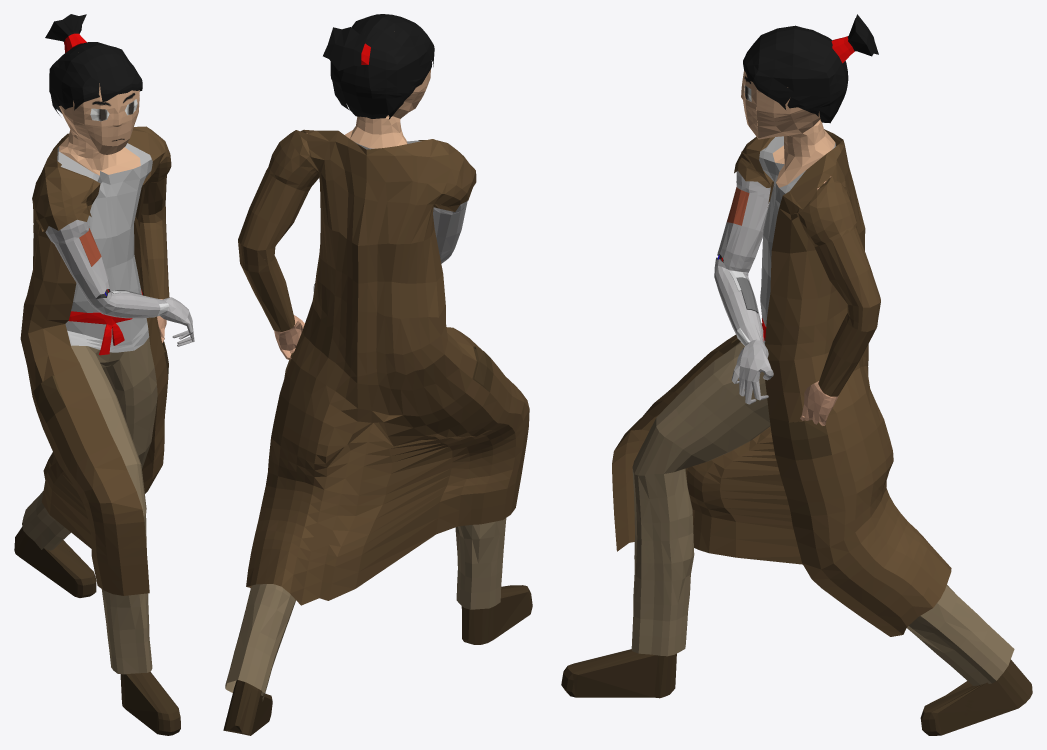
File: Special_Attack_000036.obj
The picture shows the model from 3 angles, left to right: view 1: azimuth 30°, elevation 25°; view 2: azimuth 150°, elevation 25°; view 3: azimuth 270°, elevation 25°; orthographic projection. The views are drawn at different scales.
Parts seen in each view (by area): view 1: Hair_Cube.004; view 2: Hair_Cube.004; view 3: Hair_Cube.004.
Part boxes in pixels (x1,y1,x2,y2): Hair_Cube.004: (14, 14, 194, 735); Hair_Cube.004: (223, 14, 532, 735); Hair_Cube.004: (561, 14, 1032, 735).
Size of the model in its own units: 1.09 by 3.68 by 2.28.
